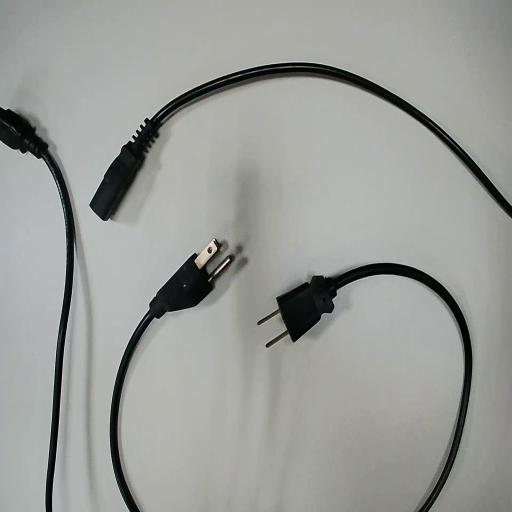wire: (91, 63, 511, 218), (267, 264, 471, 511), (111, 242, 233, 511)
